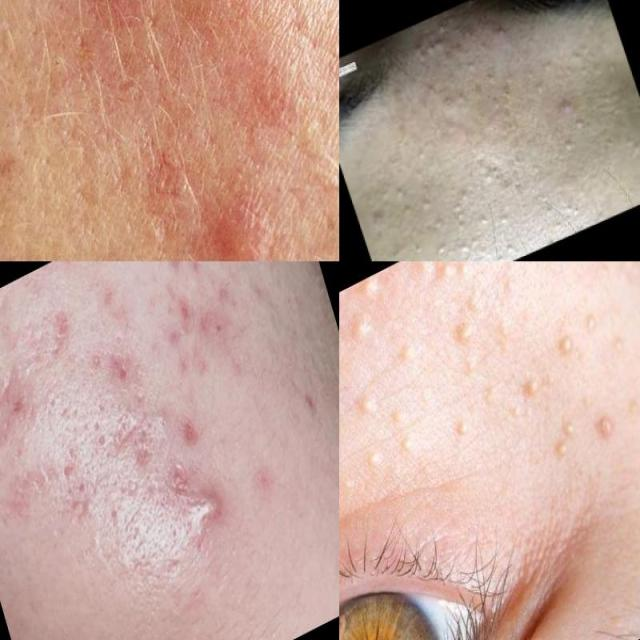acne_scars: (283, 354, 335, 426), (31, 303, 81, 365), (96, 334, 140, 397), (43, 441, 87, 494), (2, 359, 36, 426), (120, 426, 154, 481), (174, 409, 211, 456), (164, 288, 198, 338), (156, 261, 205, 285), (0, 404, 17, 460)
comedone: (395, 15, 461, 80), (555, 27, 610, 96), (388, 164, 439, 234), (136, 382, 185, 452), (519, 53, 552, 103), (431, 76, 466, 122), (490, 78, 523, 111), (555, 128, 581, 164), (491, 203, 519, 236), (453, 232, 483, 260), (570, 104, 592, 138)
milium: (339, 369, 428, 483), (431, 276, 504, 377), (340, 271, 402, 360), (498, 356, 562, 432), (536, 404, 592, 472), (402, 262, 462, 310), (586, 400, 625, 455), (578, 302, 607, 349), (552, 329, 581, 368)
papule: (184, 144, 286, 261), (164, 468, 235, 546)
